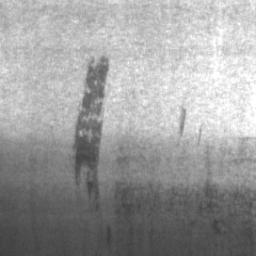Iron scale compression: (75, 56, 109, 205), (179, 108, 187, 139), (105, 224, 112, 252)
